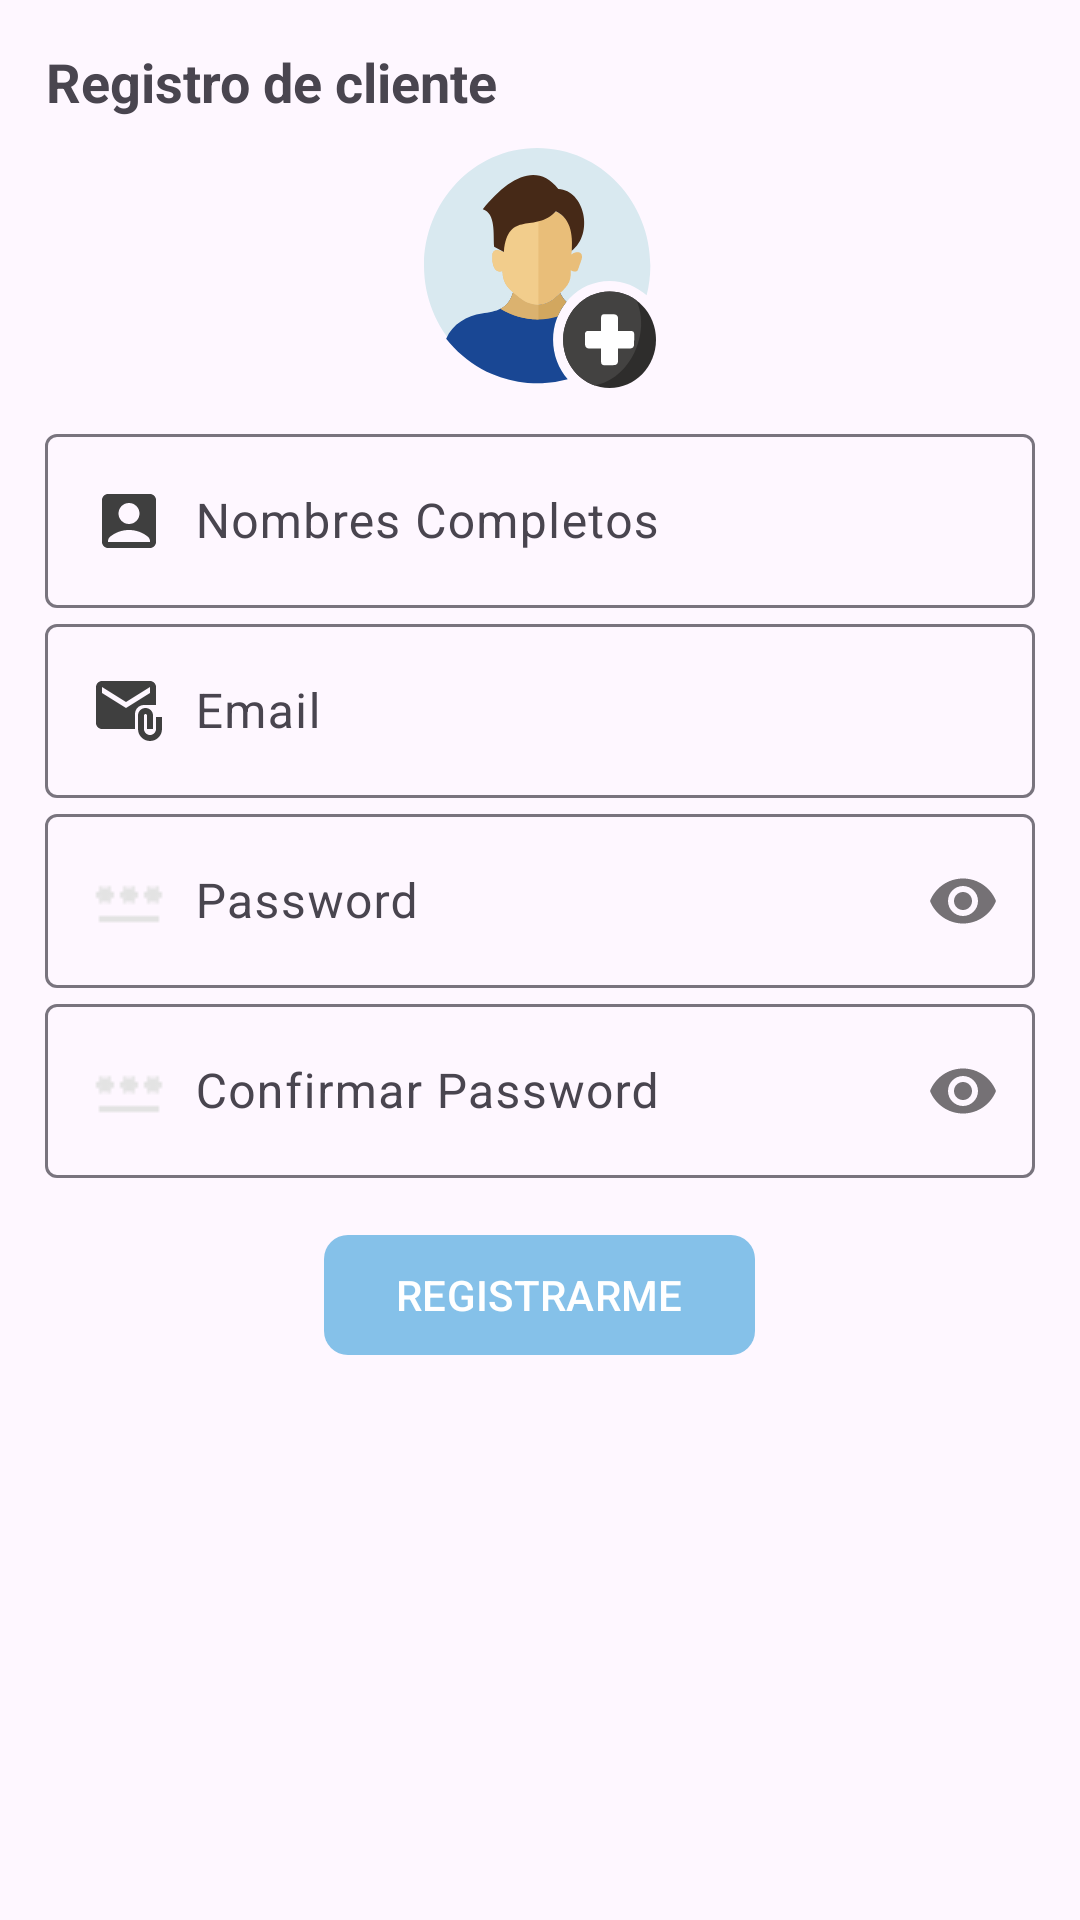

Icons on this 1080w x 1920h Android screen, each with its box as box(x1, y1, x2, y2):
add cliente: box(424, 148, 656, 388)
